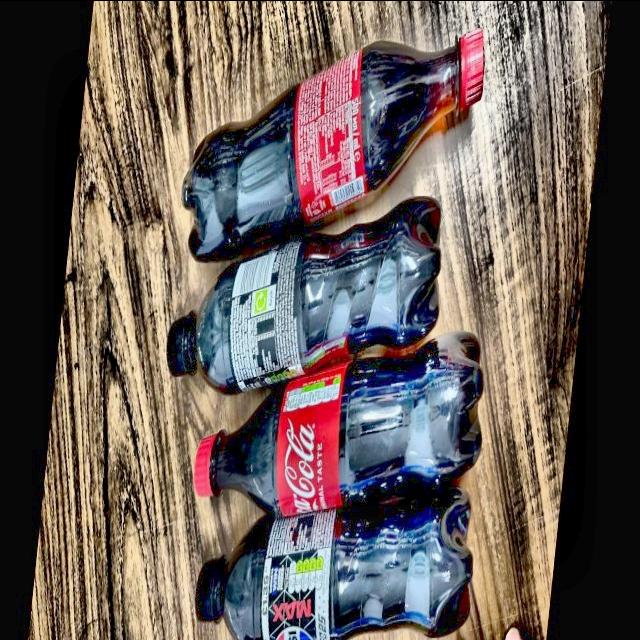coke-bottle: (179, 23, 495, 266), (183, 330, 477, 512)
pepsi-bottle: (160, 214, 452, 391), (197, 478, 472, 640)
